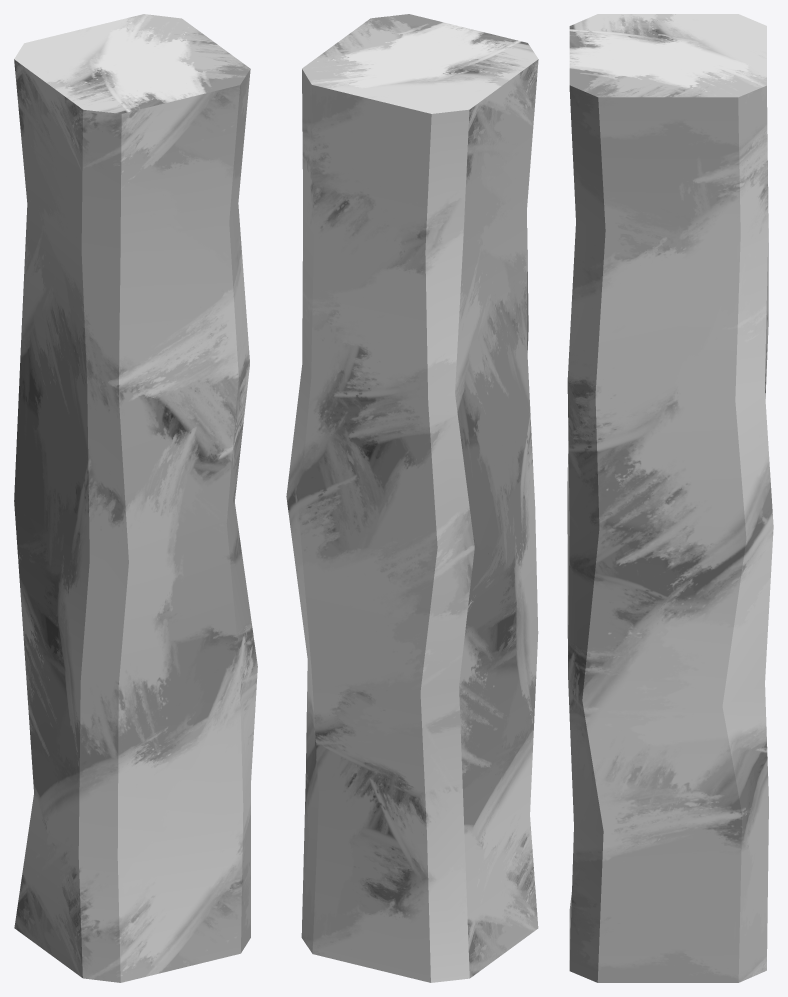
File: Village_Wall_Stone_Pillar_A.fbx
3 renders of one model, left to right at view 1: azimuth 30°, elevation 25°; view 2: azimuth 150°, elevation 25°; view 3: azimuth 270°, elevation 25°, orthographic.
Parts seen in each view (by area): view 1: Cube.010; view 2: Cube.010; view 3: Cube.010.
Part boxes in pixels (bbox=[...]): Cube.010: bbox=[14, 14, 257, 982]; Cube.010: bbox=[286, 14, 538, 982]; Cube.010: bbox=[567, 14, 773, 982].
Size of the model in its own units: 43.8 by 200 by 42.23.
